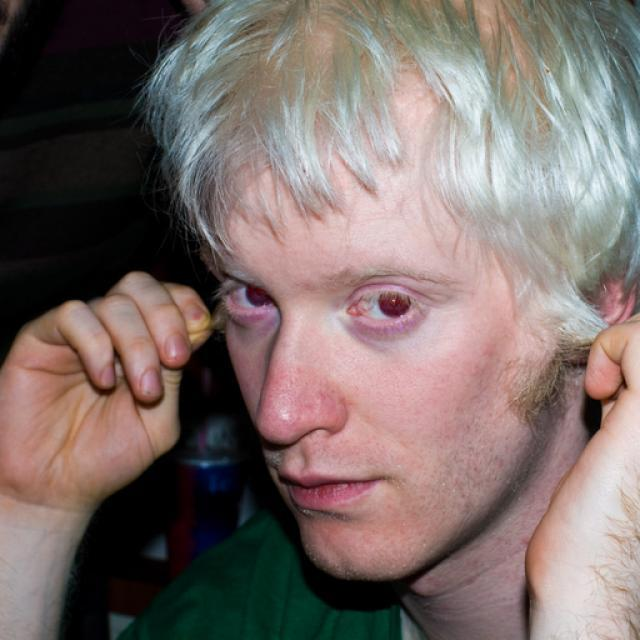neutral: (221, 138, 565, 582)
